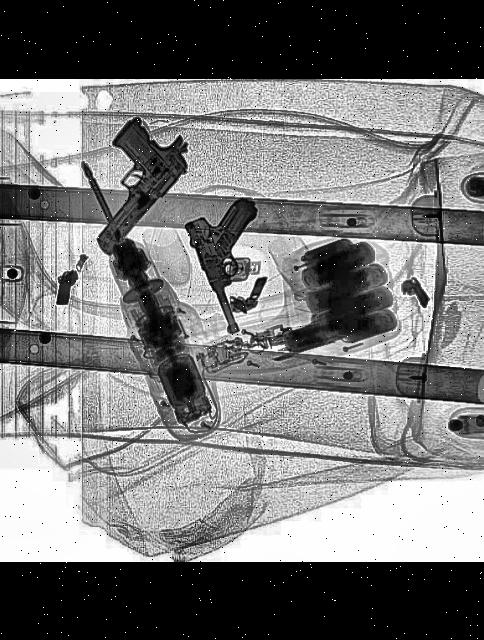Gun: (45, 108, 208, 252), (179, 193, 301, 333)
